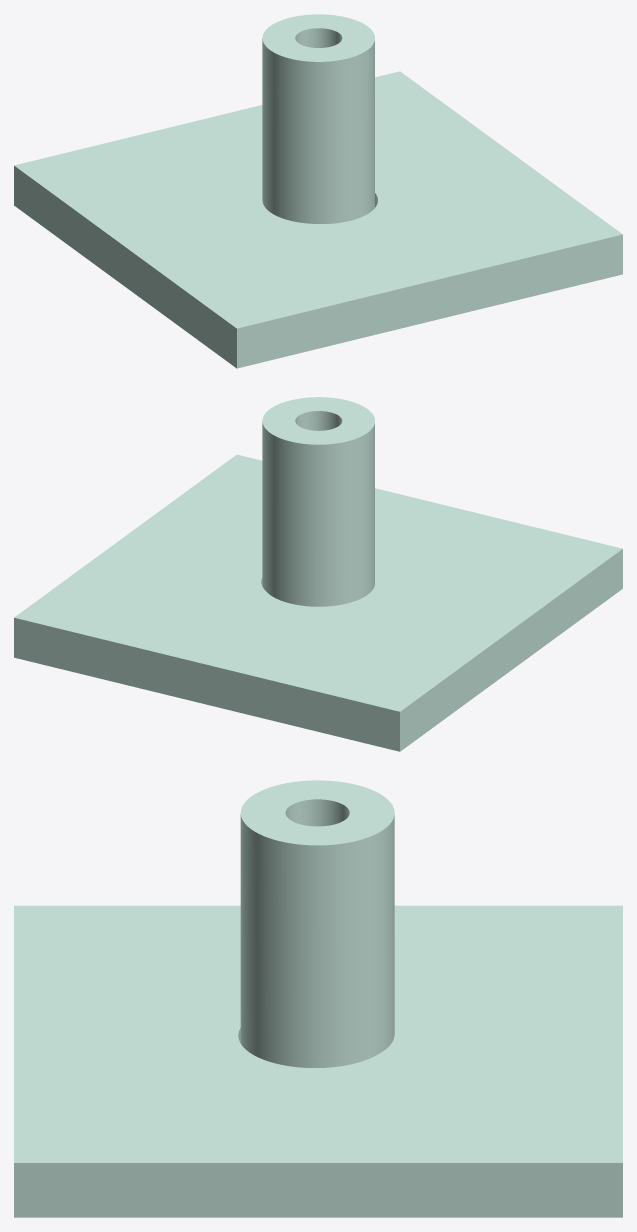
3 views of the same model, one above another, from view 1: azimuth 30°, elevation 25°; view 2: azimuth 150°, elevation 25°; view 3: azimuth 270°, elevation 25° (orthographic). The views are drawn at different scales.
Parts seen in each view (by area): view 1: Renderer Node; view 2: Renderer Node; view 3: Renderer Node.
Boxes of the visible parts, box(x1,y1,x2,y2) form: Renderer Node: box(14, 14, 622, 368); Renderer Node: box(14, 397, 622, 751); Renderer Node: box(14, 780, 622, 1217).
Bounding box in the file's own units: 1.5 × 0.75 × 1.5.
